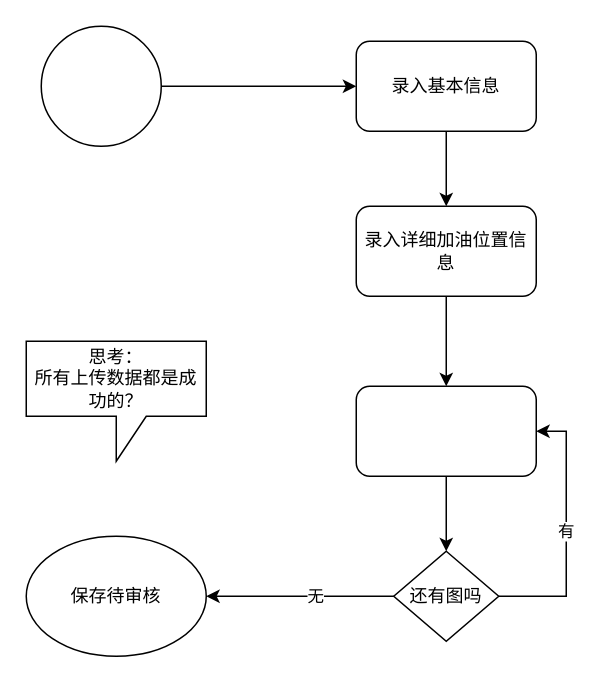
The diagram is 605 pixels wide and 683 high, and some of its shapes have lost their labels. The centre of each missing label's shape, as x and y in pixels:
上传图片及描述: (445,430)
开始测试录入: (100,85)
